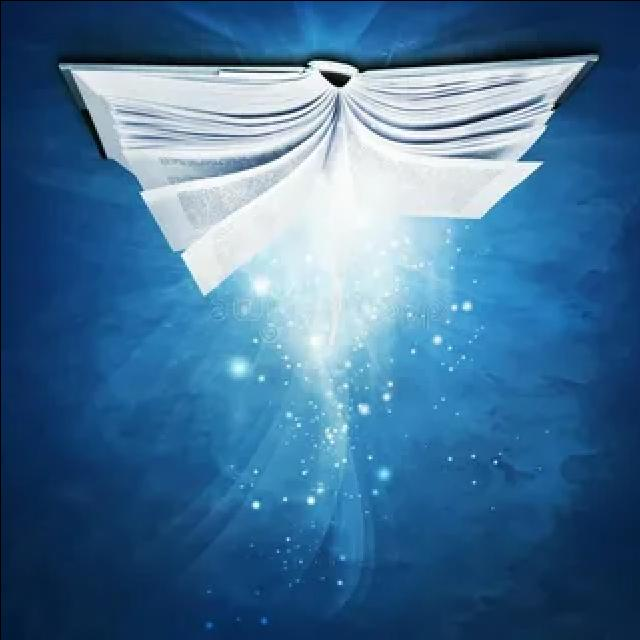book: (48, 34, 596, 304)
